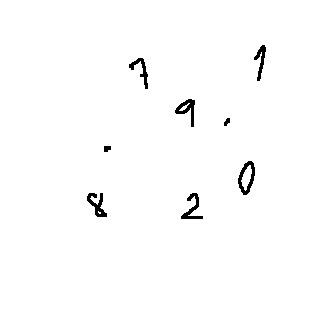.: (93, 134, 123, 158), (221, 114, 234, 129)
0: (231, 158, 263, 205)
1: (243, 43, 274, 82)
2: (175, 187, 208, 227)
7: (125, 57, 157, 97)
8: (84, 186, 116, 227)
9: (170, 94, 200, 139)
